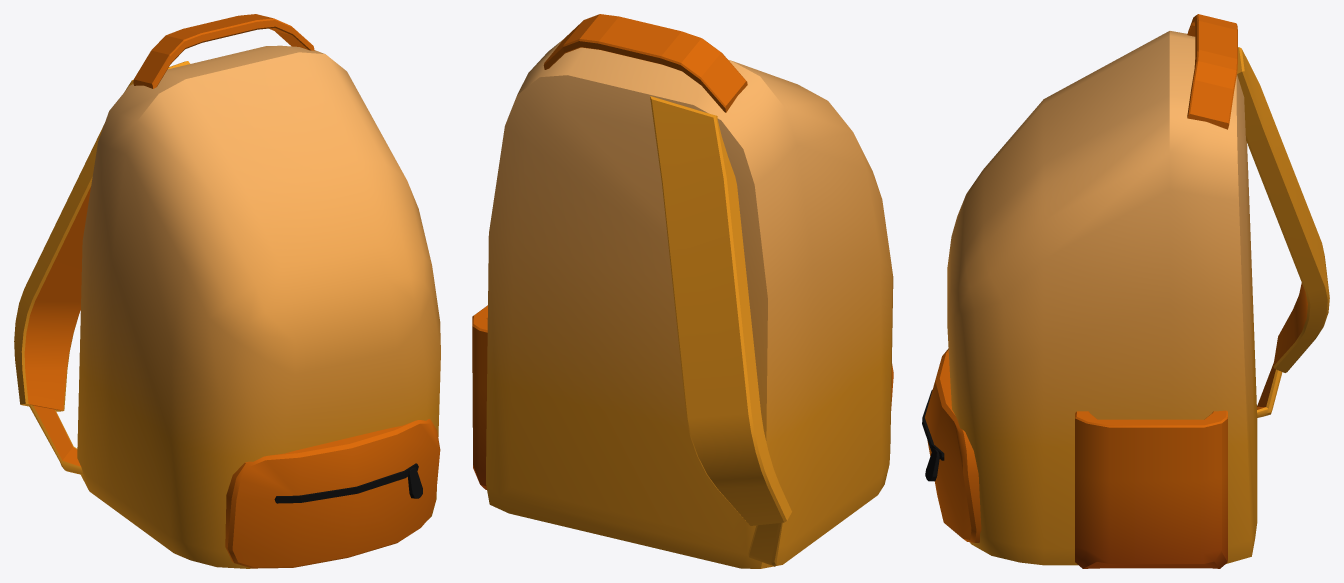
Rendered from SM_BackPack_18.fbx.
3 views of the same model, side by side, from view 1: azimuth 30°, elevation 25°; view 2: azimuth 150°, elevation 25°; view 3: azimuth 270°, elevation 25° (orthographic). The views are drawn at different scales.
Visible parts, largest first — view 1: SM_BackPack_18; view 2: SM_BackPack_18; view 3: SM_BackPack_18.
Part boxes in pixels (left/top/right/bottom): SM_BackPack_18: left=14, top=14, right=440, bottom=568; SM_BackPack_18: left=472, top=14, right=893, bottom=568; SM_BackPack_18: left=922, top=14, right=1329, bottom=568.
Size of the model in its own units: 93.94 by 125 by 98.14.
